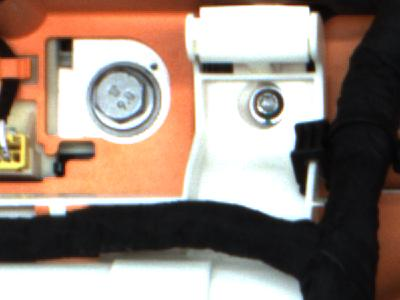nut_b: (83, 63, 169, 132)
screw_m: (236, 82, 287, 124)
